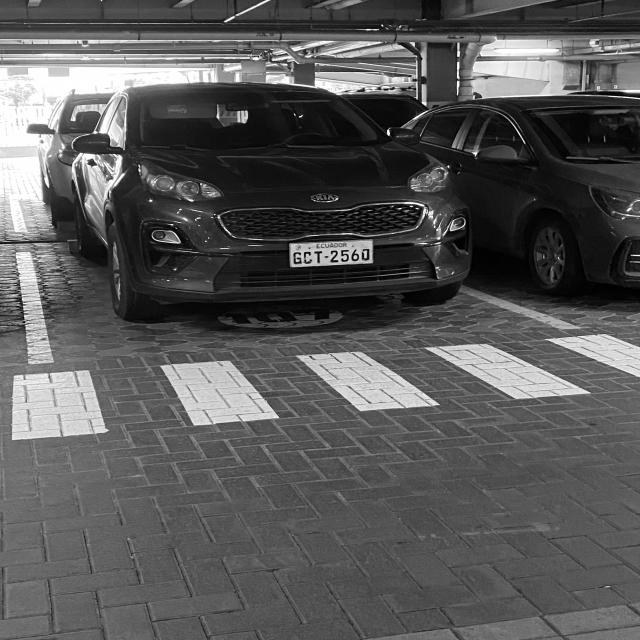Placa: (289, 240, 373, 267)
